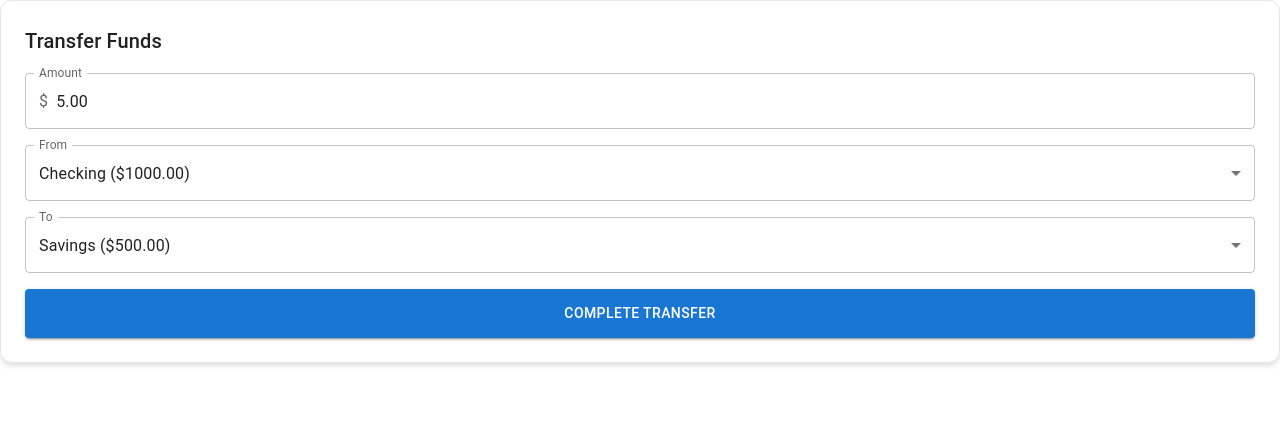
Scenario: Transfer Flow › shows error message on failed transfer
The image size is (1280, 448).
Replace the text in the number field labelled "Amount" with "5000": (656, 101) [56,73,1255,129]
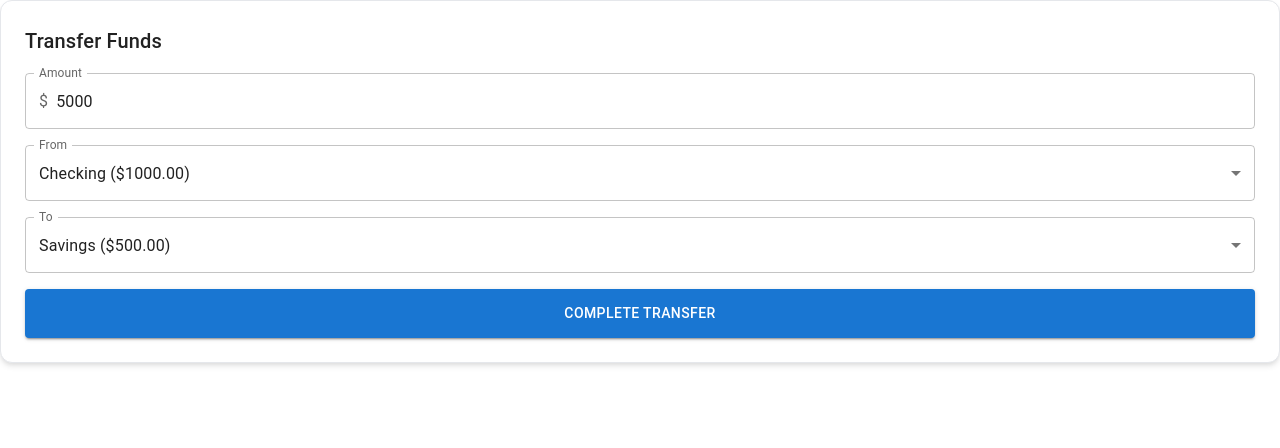
Click the button "Complete Transfer": (640, 313) [25,289,1255,338]
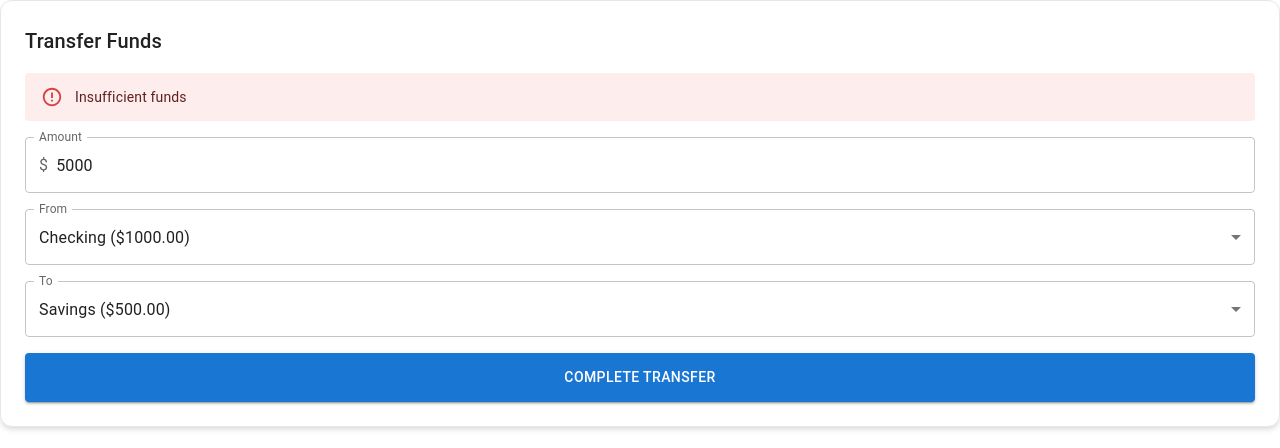
Check: the text "Insufficient funds" is shown, box [75,89,187,105]
